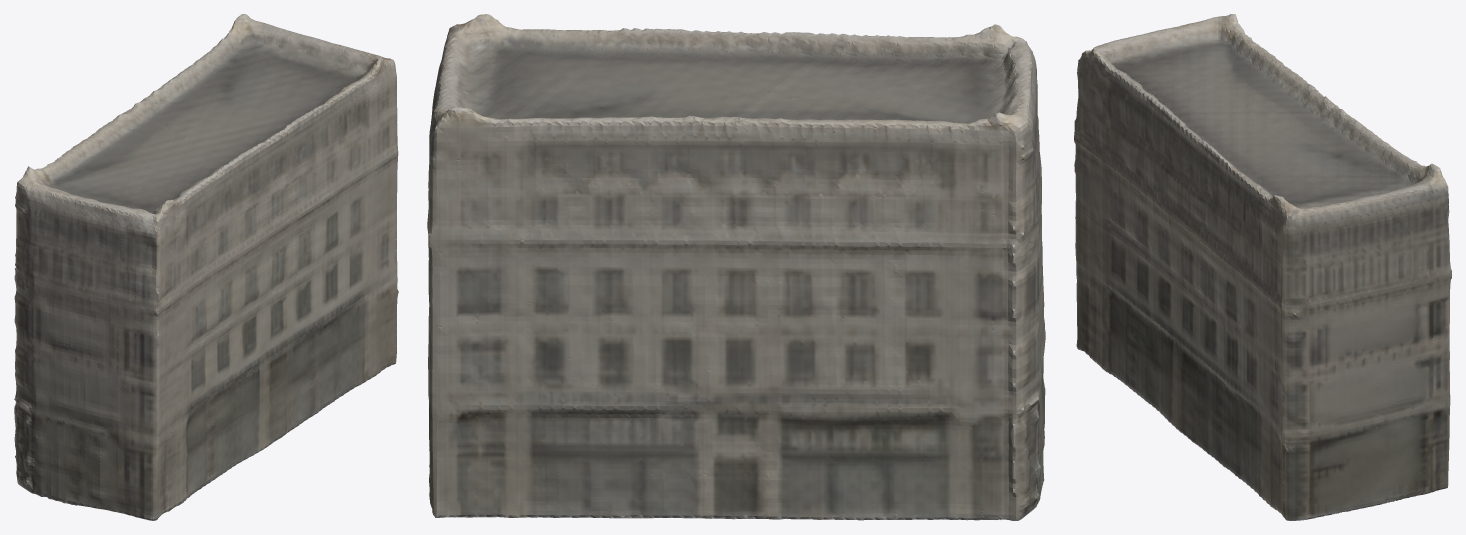
Rendered from metropolis-lado.glb.
3 views of the same model, side by side, from view 1: azimuth 30°, elevation 25°; view 2: azimuth 150°, elevation 25°; view 3: azimuth 270°, elevation 25° (orthographic). The views are drawn at different scales.
Parts seen in each view (by area): view 1: world; view 2: world; view 3: world.
Part boxes in pixels (bbox=[...]): world: bbox=[14, 14, 398, 520]; world: bbox=[427, 14, 1045, 520]; world: bbox=[1074, 14, 1451, 520].
Bounding box in the file's own units: 2 × 1.46 × 1.58.
